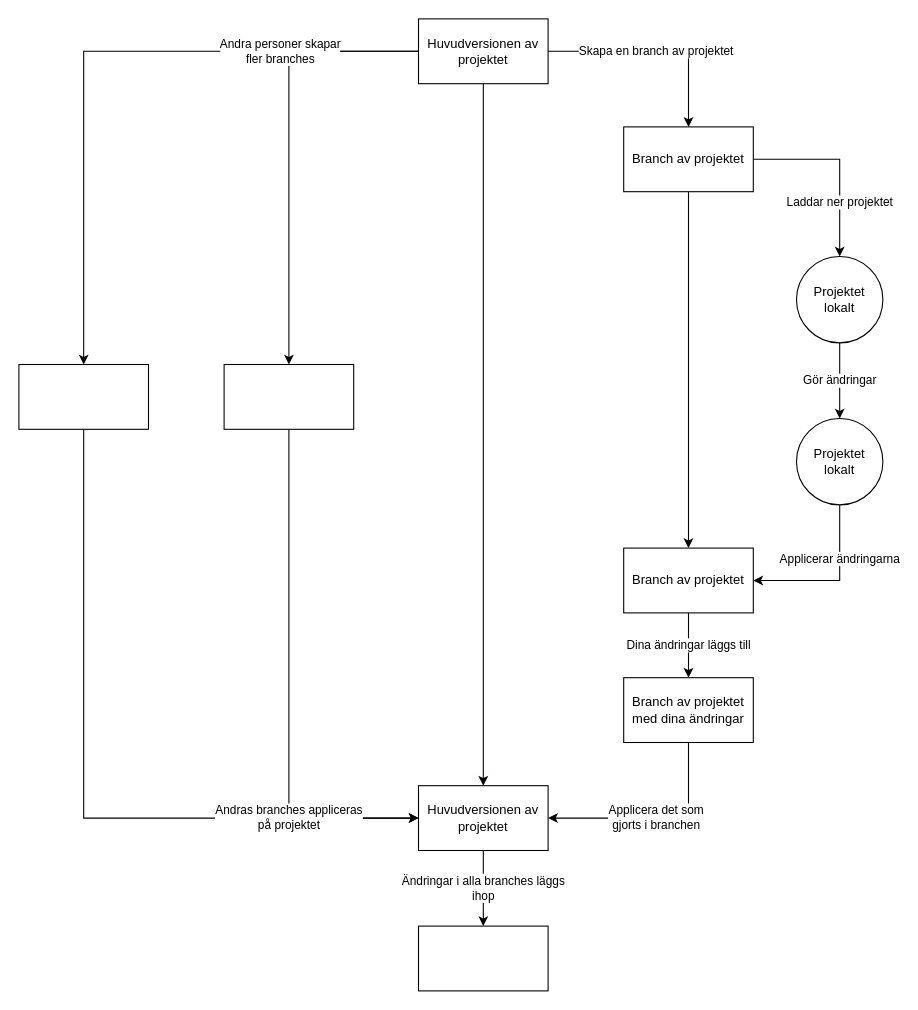
Some shapes in this 918 by 1010 pixel diagram are drawn without their labels. Here are the shapes that lost their labels. From the top down, the centre of each, then its label:
(x=83, y=396): En annan branch av projektet
(x=288, y=396): En till branch av projektet
(x=482, y=958): Huvudversionen av projektet med ändringarna i branchen
